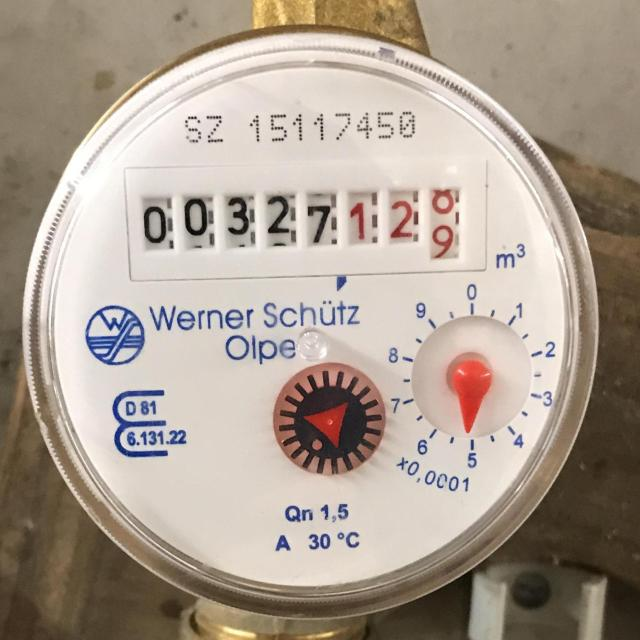gaz_meter: (24, 34, 601, 622)
indication: (131, 166, 474, 281)
